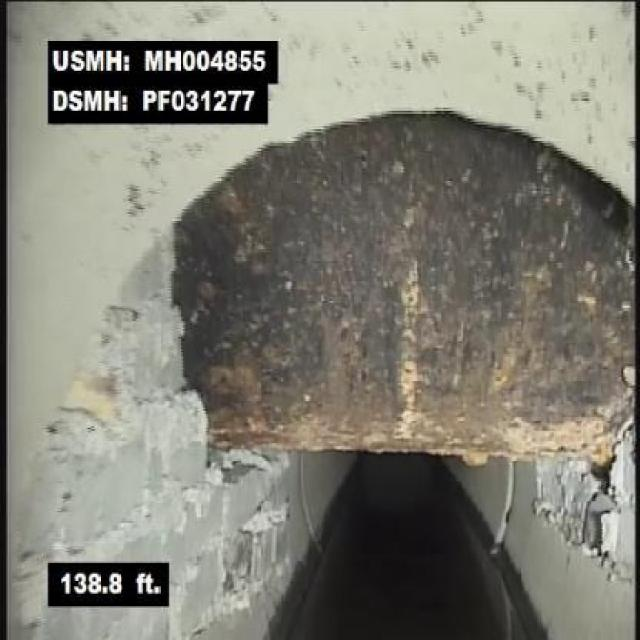Utility intrusion: (150, 120, 638, 509)
